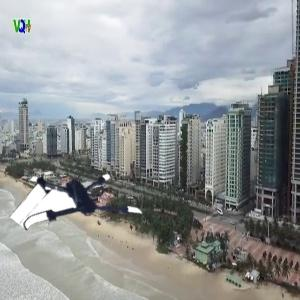drone: (27, 148, 141, 262)
